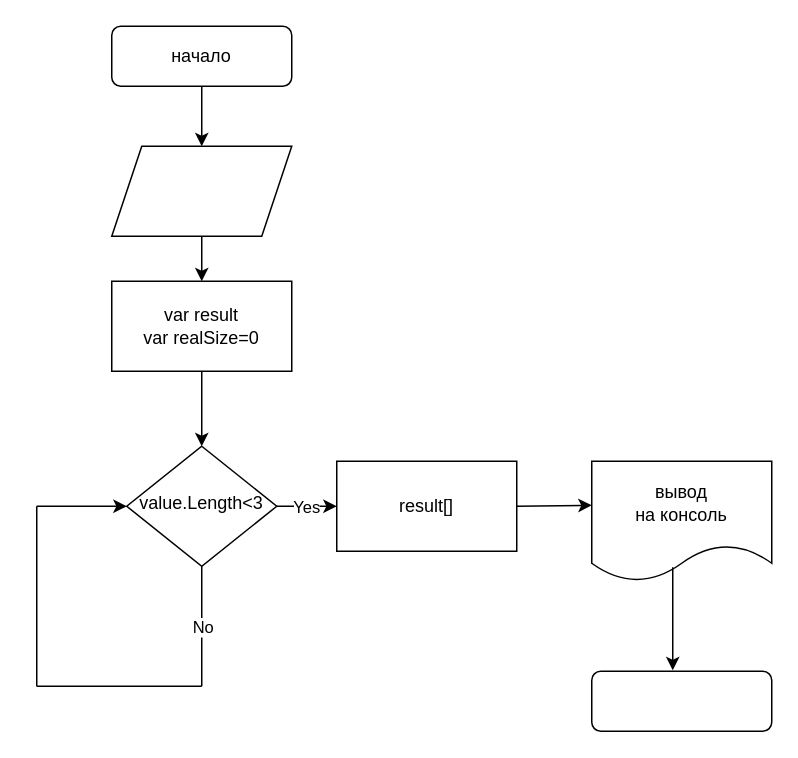
The diagram is 798 pixels wide and 758 high, and some of its shapes have lost their labels. Here are the shapes that lost their labels. From the top down, the centre of each, then its label:
At point (201, 190): "Ввод массива строк".
At point (681, 700): "конец".
